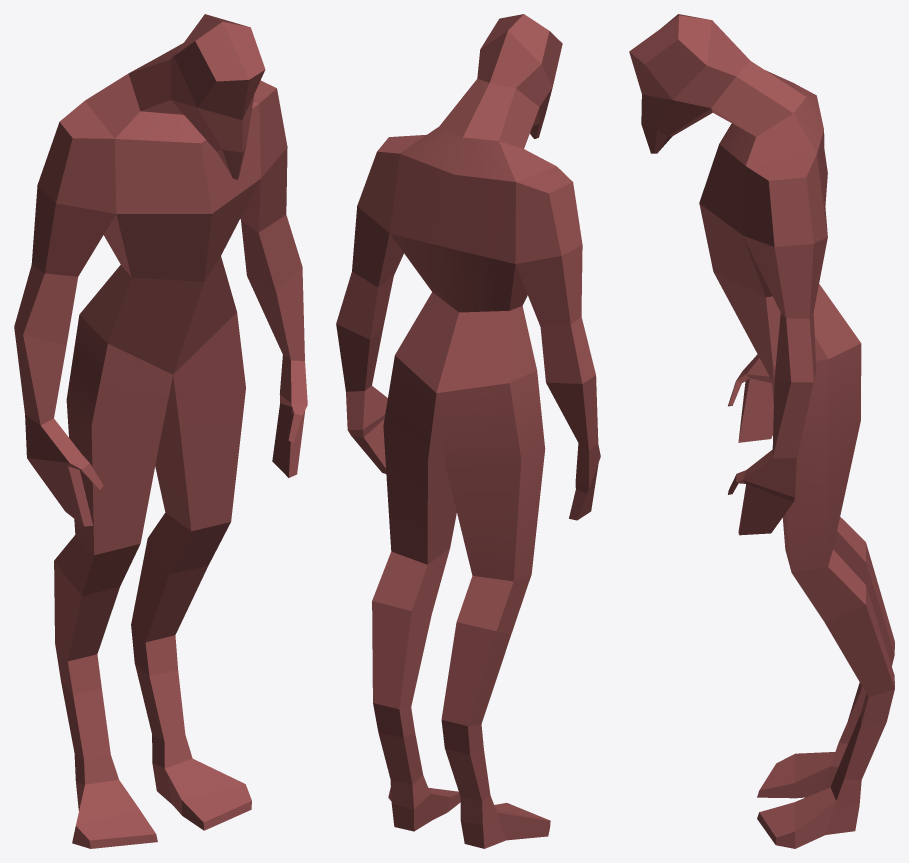
The model's file is FM_UV_LowPoly_Standing.fbx.
3 renders of one model, left to right at view 1: azimuth 30°, elevation 25°; view 2: azimuth 150°, elevation 25°; view 3: azimuth 270°, elevation 25°, orthographic. The views are drawn at different scales.
Visible parts, largest first — view 1: FireplaceMan_LP_Stand_UV; view 2: FireplaceMan_LP_Stand_UV; view 3: FireplaceMan_LP_Stand_UV.
Part boxes in pixels (x1,y1,x2,y2): FireplaceMan_LP_Stand_UV: [14, 14, 307, 848]; FireplaceMan_LP_Stand_UV: [336, 14, 600, 848]; FireplaceMan_LP_Stand_UV: [629, 14, 894, 848].
Size of the model in its own units: 7.97 by 23.04 by 7.
